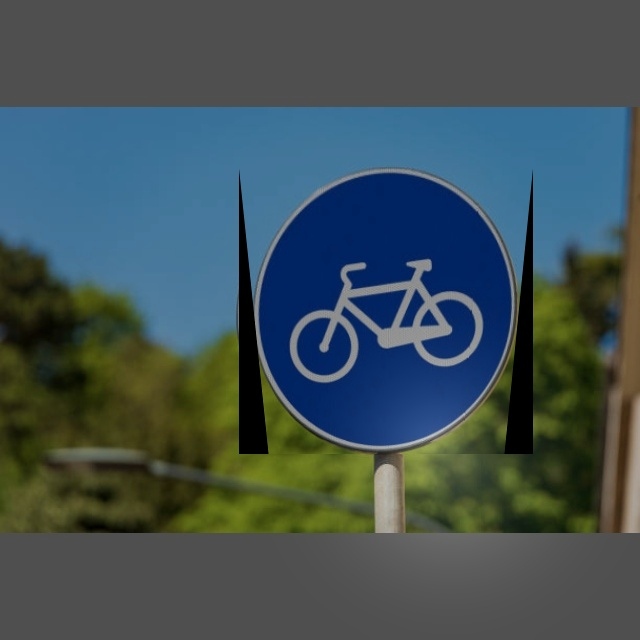Compulsory_Cycle_Track: (239, 168, 533, 454)
